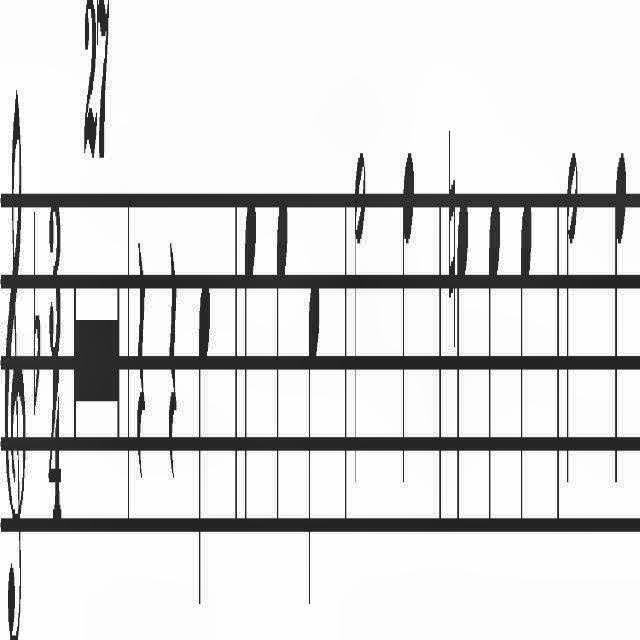Bass-clef: (2, 31, 28, 640)
Bemol: (31, 161, 44, 455)
Half-note: (562, 135, 582, 519), (349, 134, 367, 534)
Quarter-note: (272, 112, 292, 604), (400, 98, 420, 502), (194, 252, 214, 630), (483, 160, 501, 572), (243, 157, 261, 563), (307, 231, 325, 633), (518, 194, 536, 532), (614, 101, 628, 511), (455, 172, 471, 526)
Quarter-rest: (132, 216, 148, 536), (164, 215, 180, 513)
